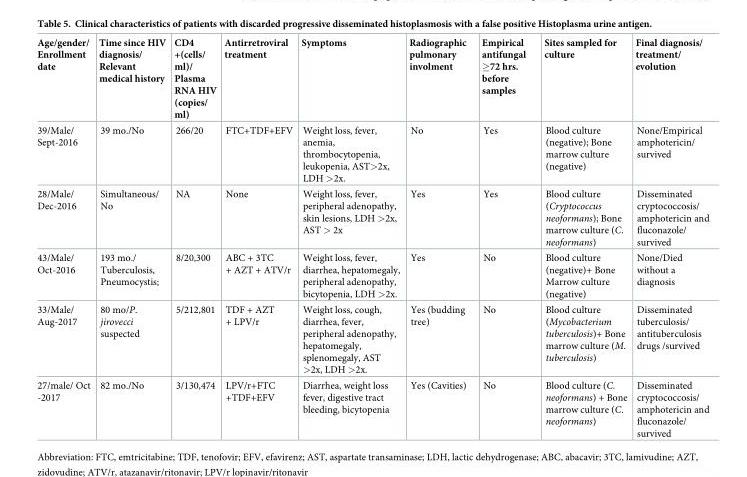table: (36, 37, 708, 438)
table column: (296, 37, 403, 438), (534, 37, 630, 438), (630, 37, 708, 438), (219, 37, 296, 438), (93, 37, 169, 438), (403, 37, 473, 438), (473, 37, 534, 438), (36, 37, 93, 438), (169, 37, 219, 438)
table column header: (36, 37, 708, 122)
table row: (36, 37, 708, 122), (36, 300, 708, 376), (36, 185, 708, 250), (36, 122, 708, 185), (36, 376, 708, 438), (36, 250, 708, 300)
